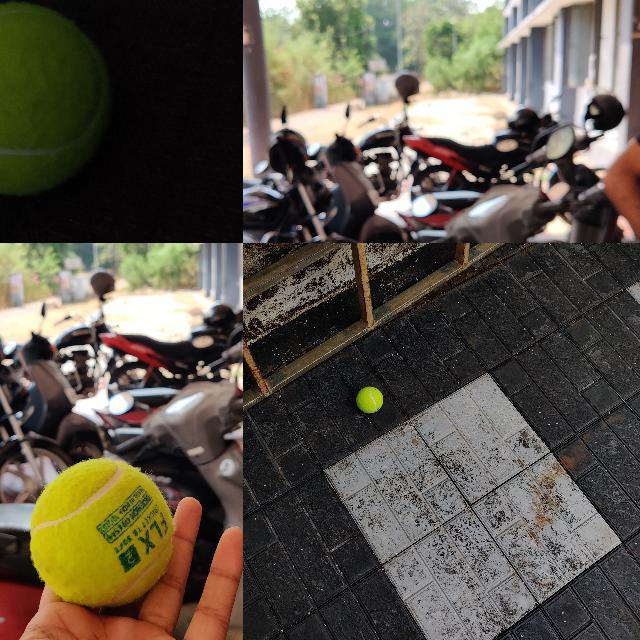tennis-ball: (0, 1, 114, 195), (29, 458, 174, 608), (355, 386, 383, 413)
